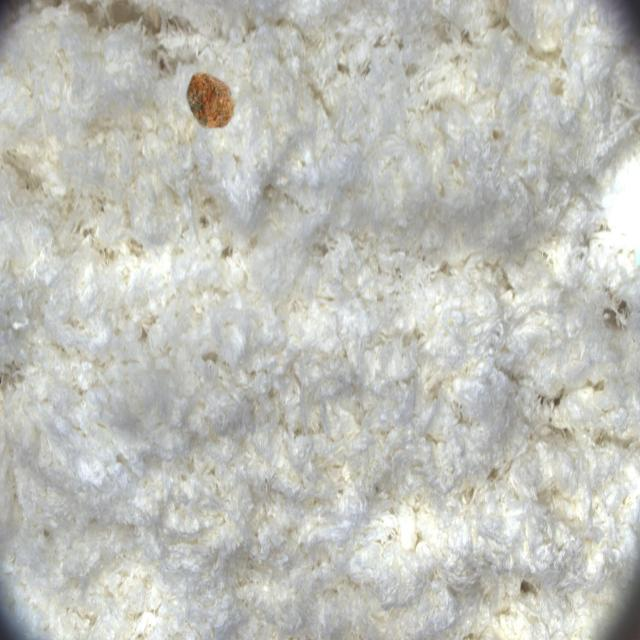dust: (166, 47, 263, 157)
